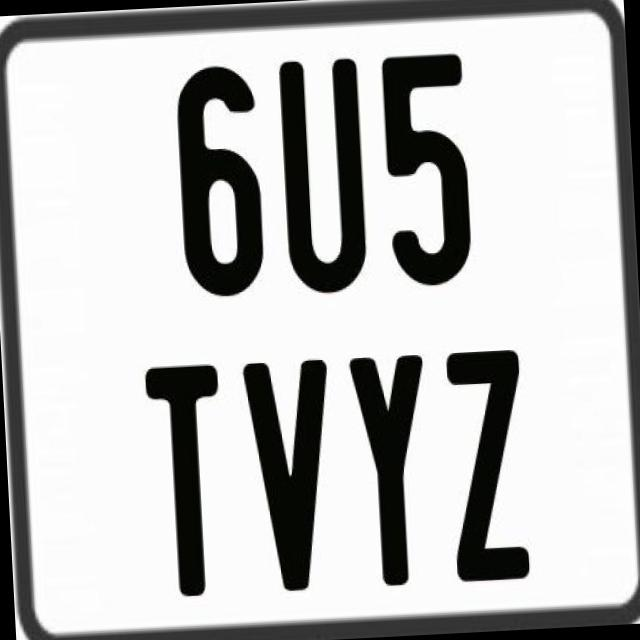5: (378, 48, 475, 289)
6: (173, 61, 271, 300)
T: (140, 361, 224, 596)
U: (276, 54, 370, 292)
V: (240, 356, 340, 600)
Y: (346, 355, 431, 592)
Z: (442, 348, 534, 582)
